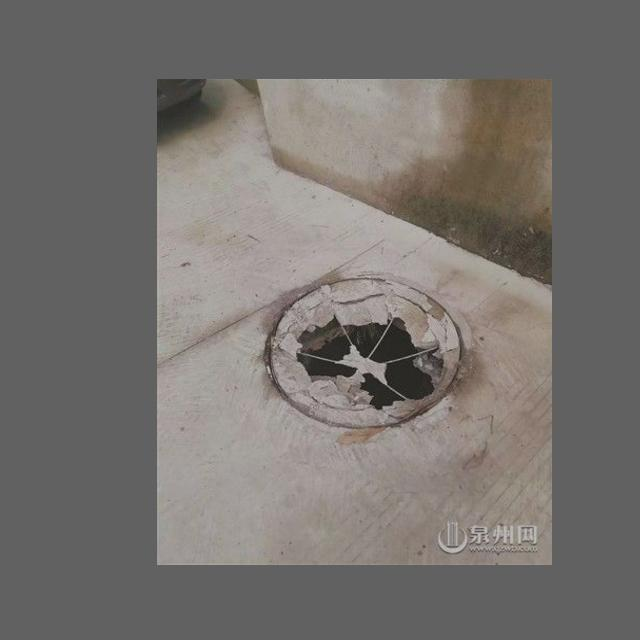broke: (250, 260, 485, 443)
